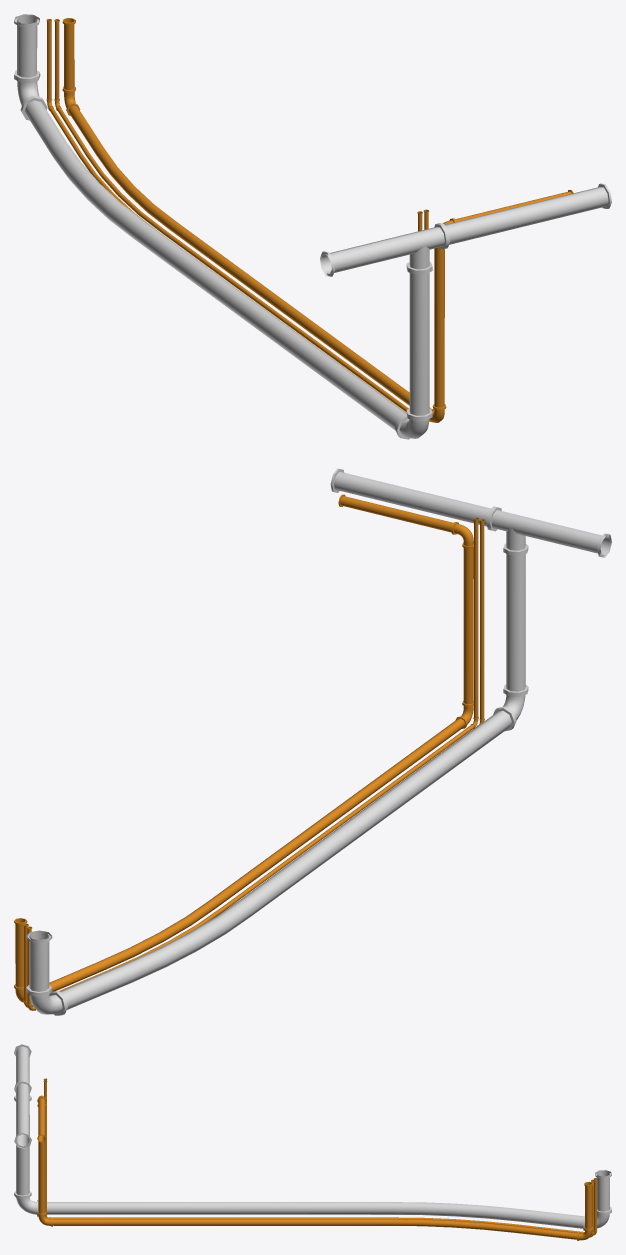
File: SM_H_Building_Tide_Waterway_09g_ATLAS.fbx
3 renders of one model, top to bottom at view 1: azimuth 30°, elevation 25°; view 2: azimuth 150°, elevation 25°; view 3: azimuth 270°, elevation 25°, orthographic. The views are drawn at different scales.
Visible parts, largest first — view 1: SM_H_Building_Tide_Waterway_09g_ATLAS; view 2: SM_H_Building_Tide_Waterway_09g_ATLAS; view 3: SM_H_Building_Tide_Waterway_09g_ATLAS.
Boxes of the visible parts, x1,y1,x2,y2 form: SM_H_Building_Tide_Waterway_09g_ATLAS: [14, 14, 611, 439]; SM_H_Building_Tide_Waterway_09g_ATLAS: [14, 468, 611, 1015]; SM_H_Building_Tide_Waterway_09g_ATLAS: [14, 1044, 611, 1240].
Size of the model in its own units: 1135 by 3223 by 849.
